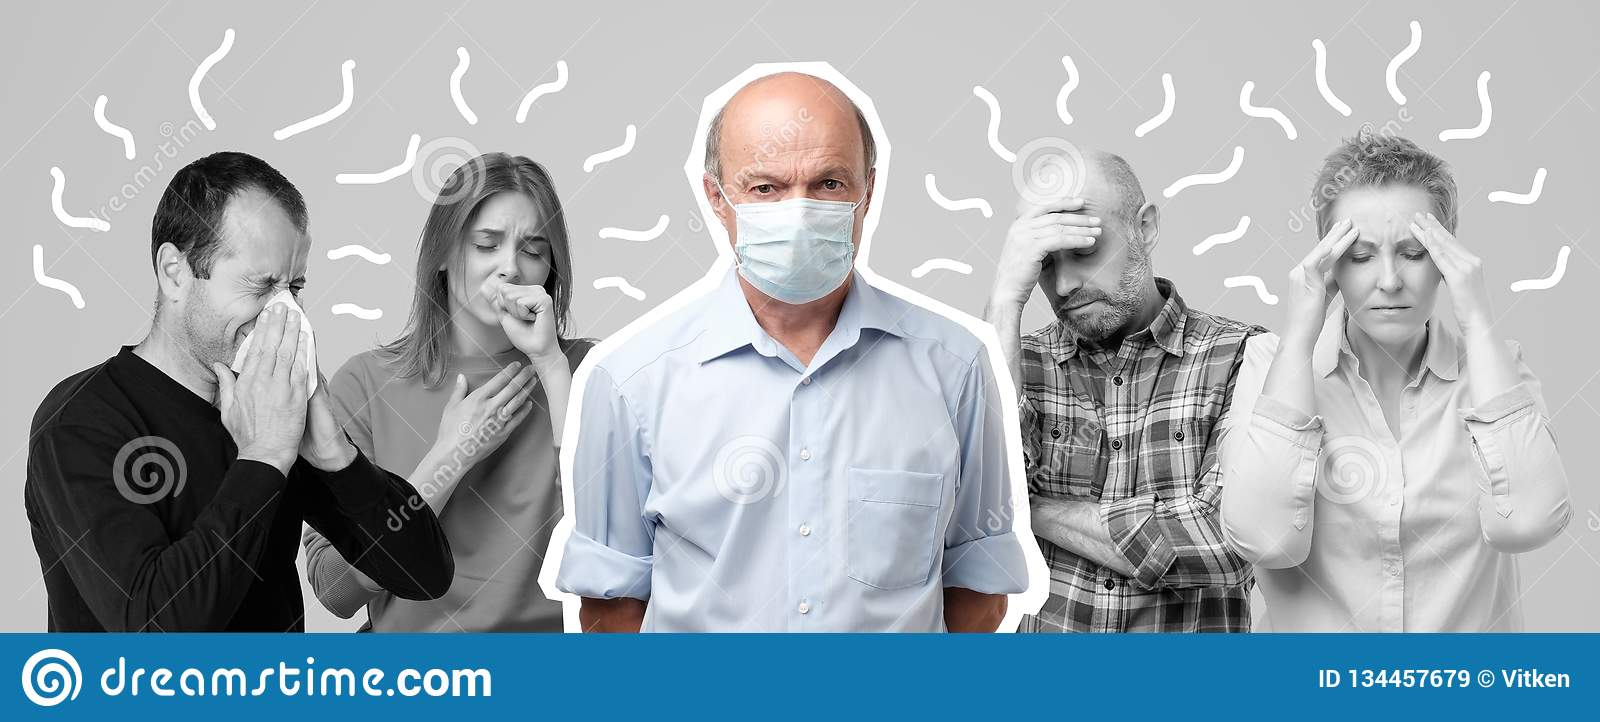mask: (735, 199, 853, 307)
